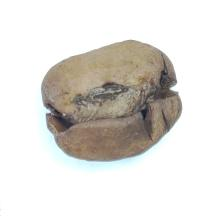NG: (47, 77, 174, 134)
